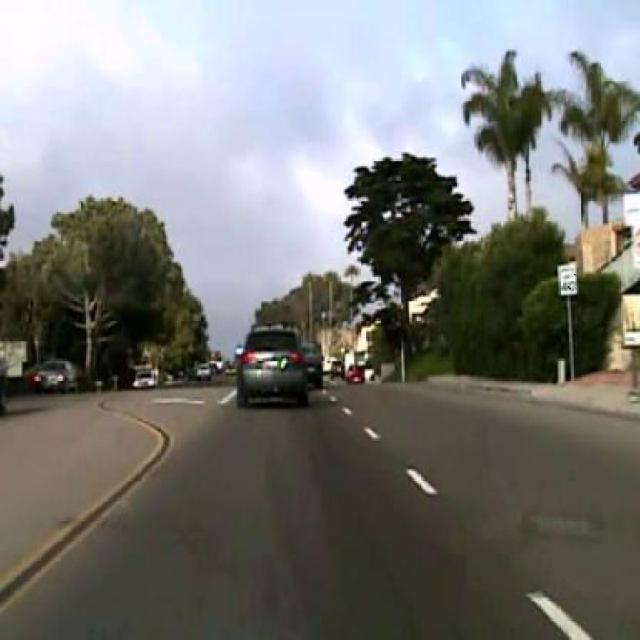speedLimit40: (557, 262, 577, 294)
